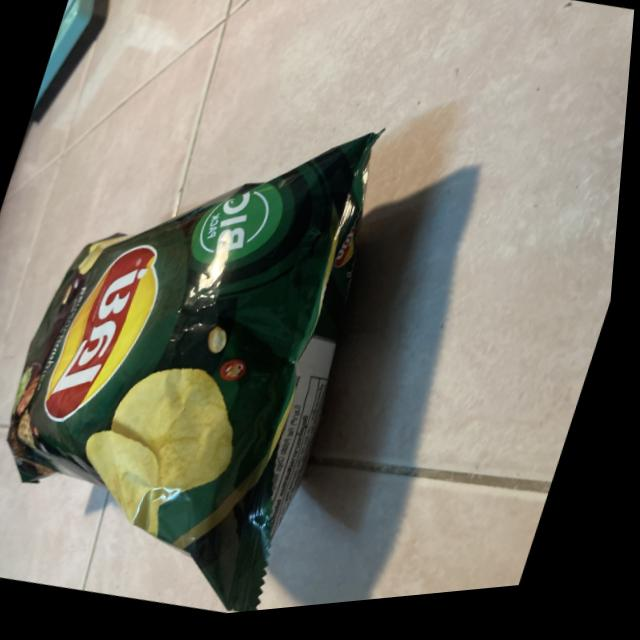Laygreen: (0, 77, 473, 640)
